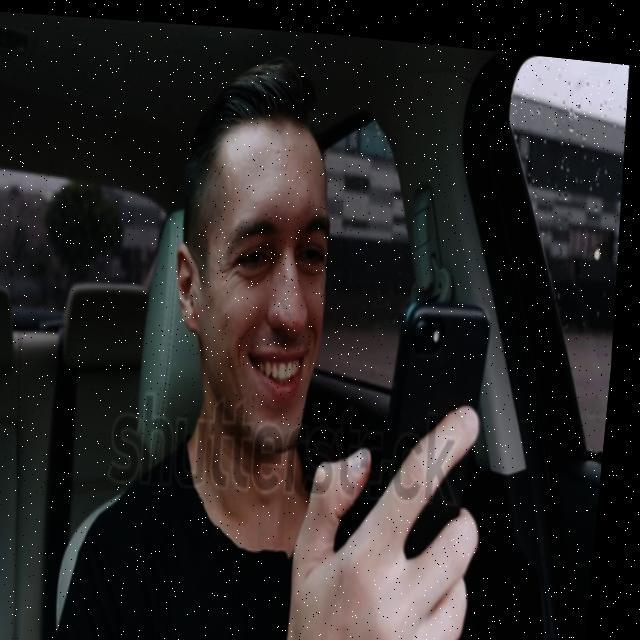PhoneCall: (382, 282, 503, 554)
